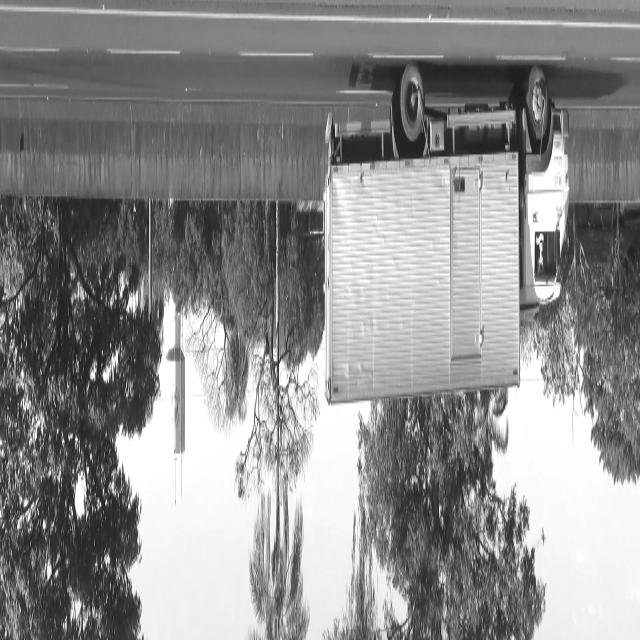-axle: (399, 59, 425, 148), (525, 65, 550, 142)
